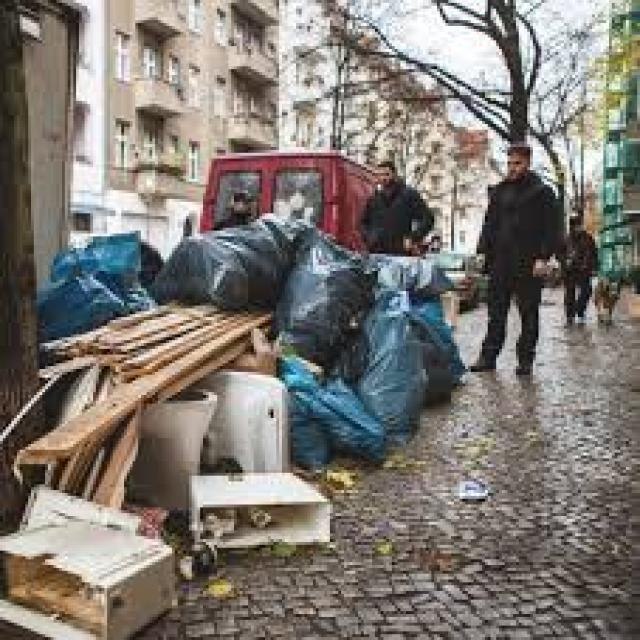garbage: (0, 203, 468, 632)
